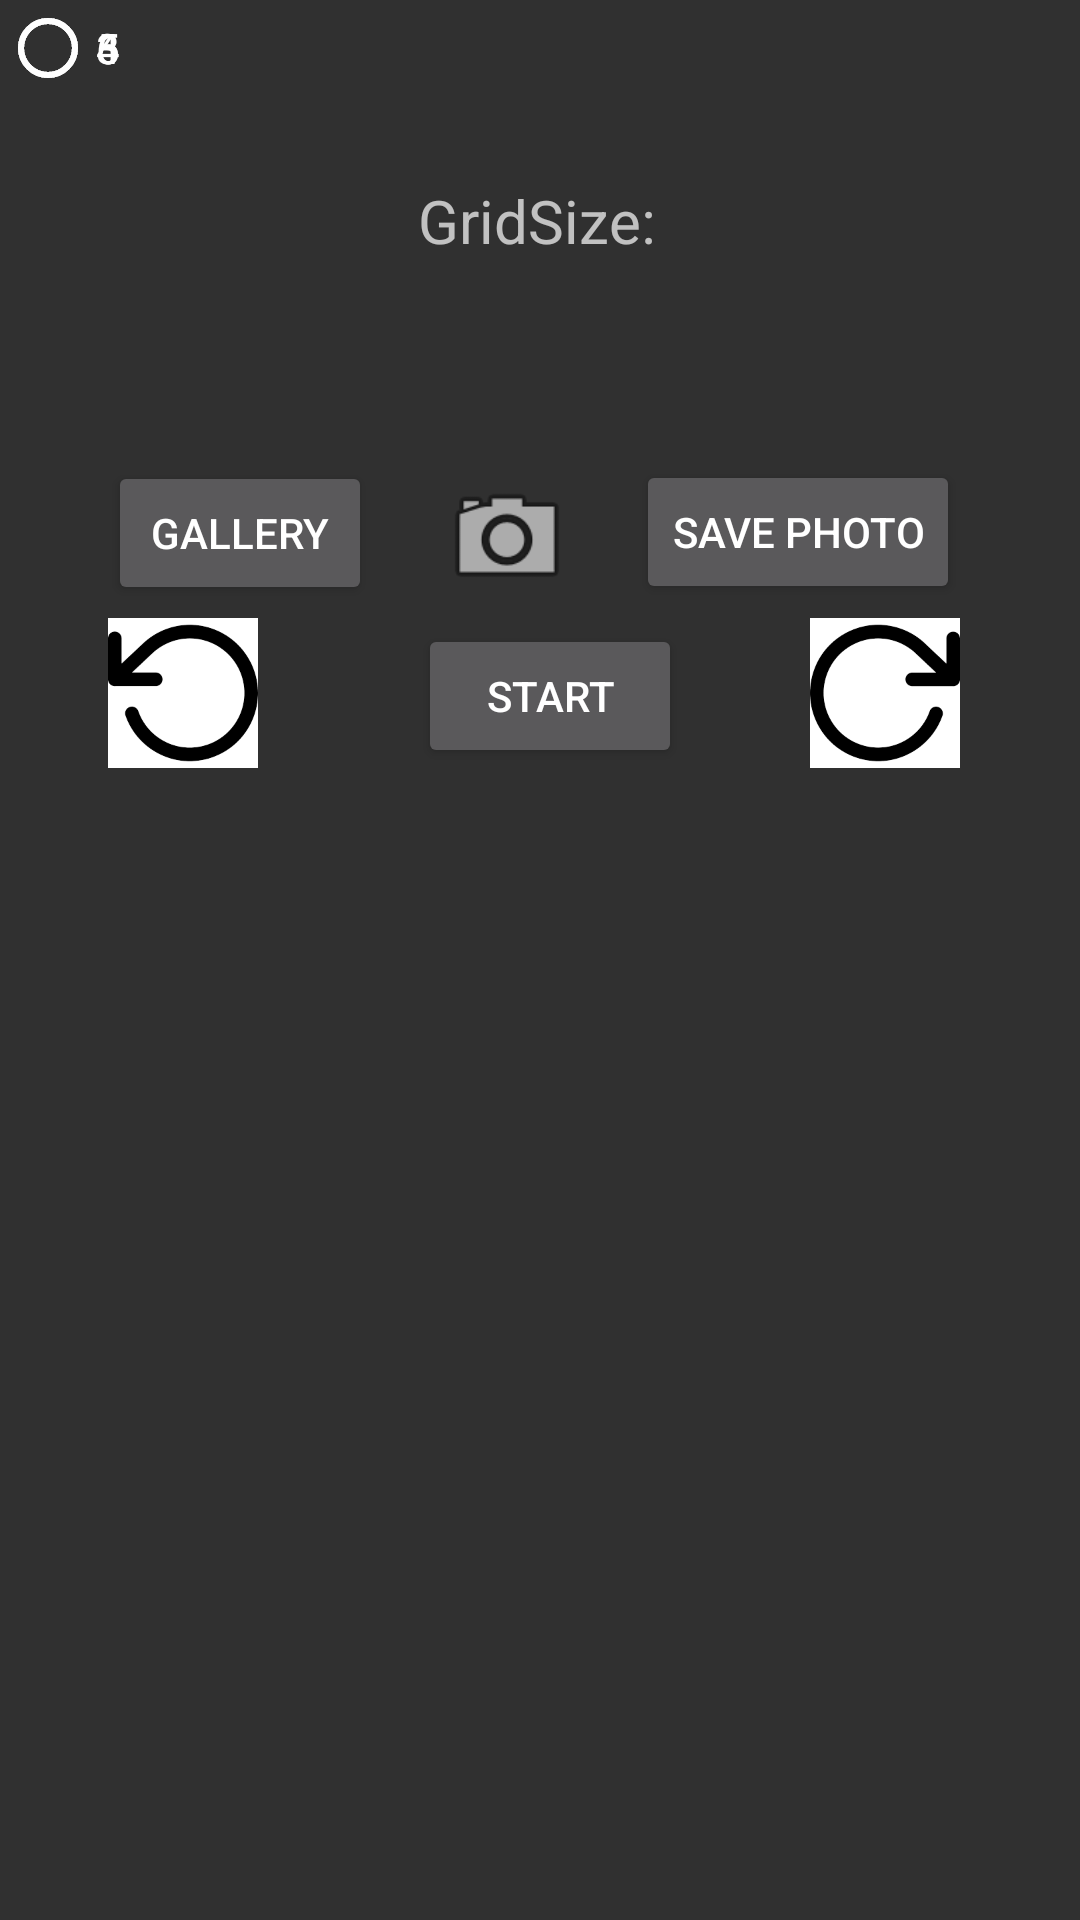

Icons on this 1080×1920 Android screen, each with its box as (x1, y1, x2, y2):
camera: (458, 498, 555, 573)
rotateleft: (108, 618, 258, 768)
rotateright: (810, 618, 960, 768)
